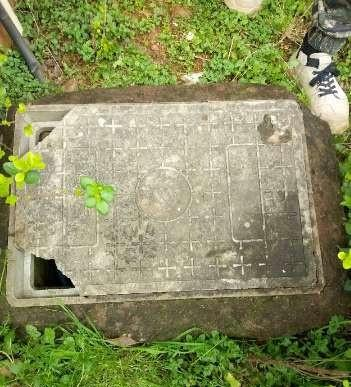wellcover: (15, 102, 320, 301)
